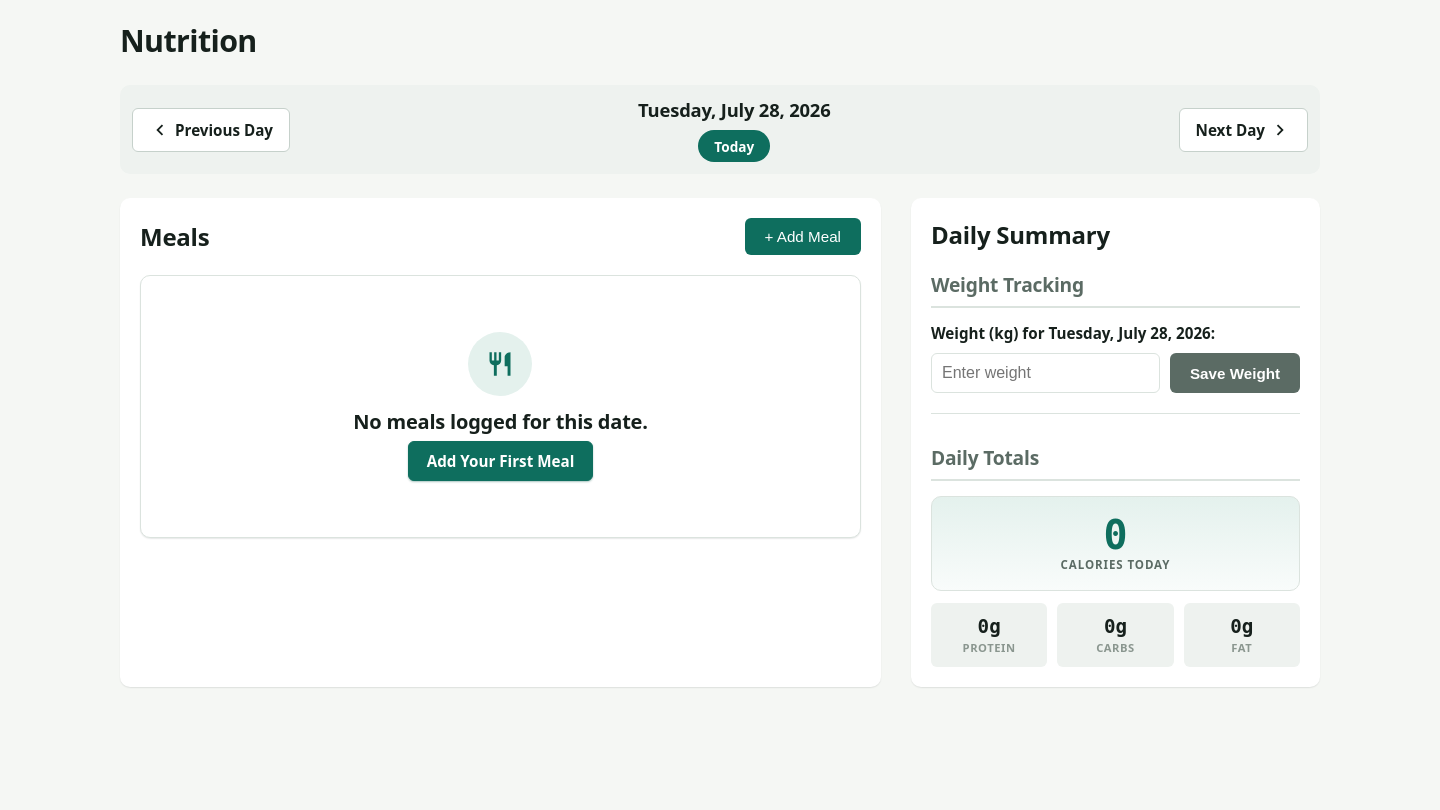
it: NutritionPage › handles error when saving weight fails
# Enter weight
Step 1. Type "82.5" into the number field labelled "Weight (kg) for Tuesday, July 28, 2026:" → x=1046, y=373, box left=931, top=353, right=1160, bottom=393
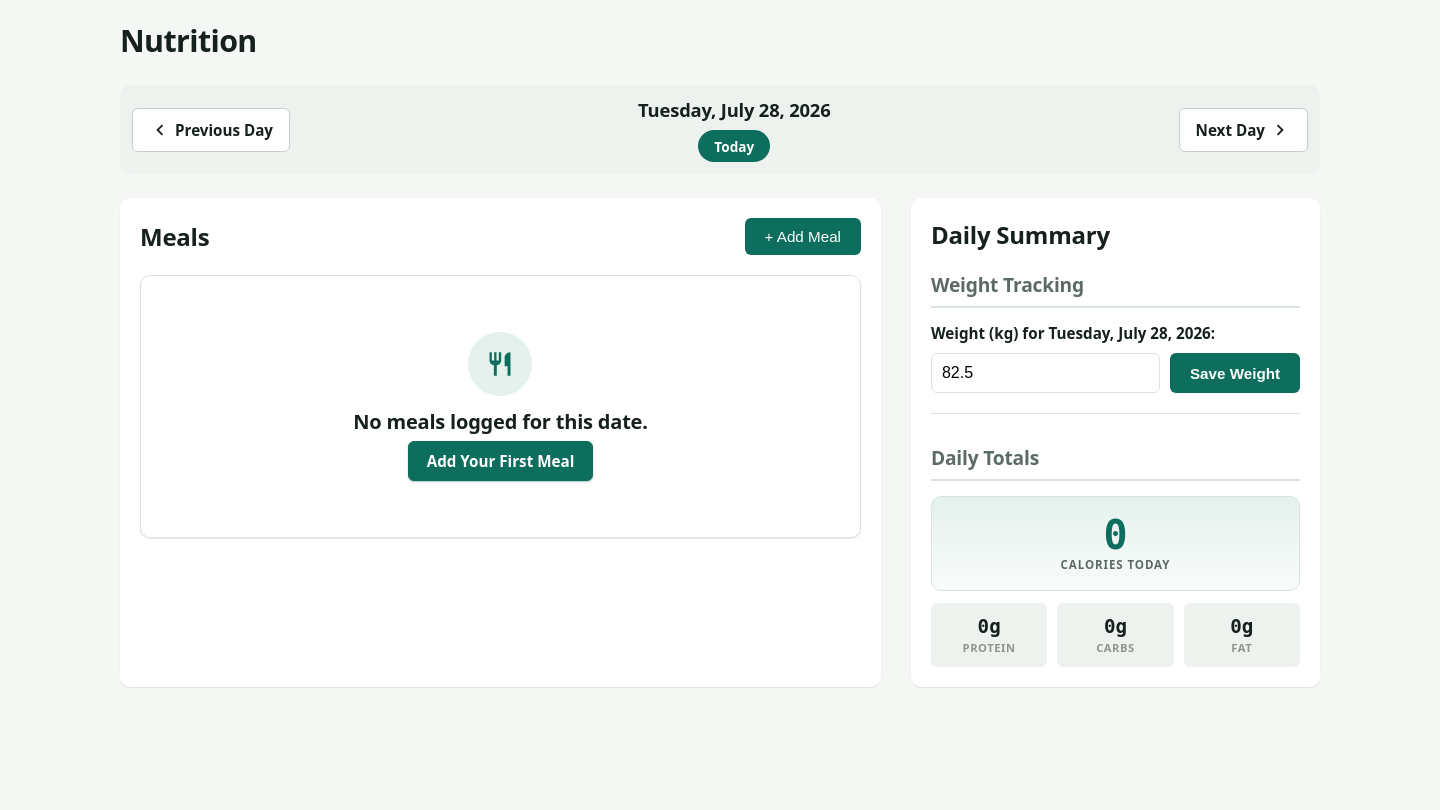
# Save weight
Step 2. Click the button "Save Weight" → x=1235, y=373, box left=1170, top=353, right=1300, bottom=393
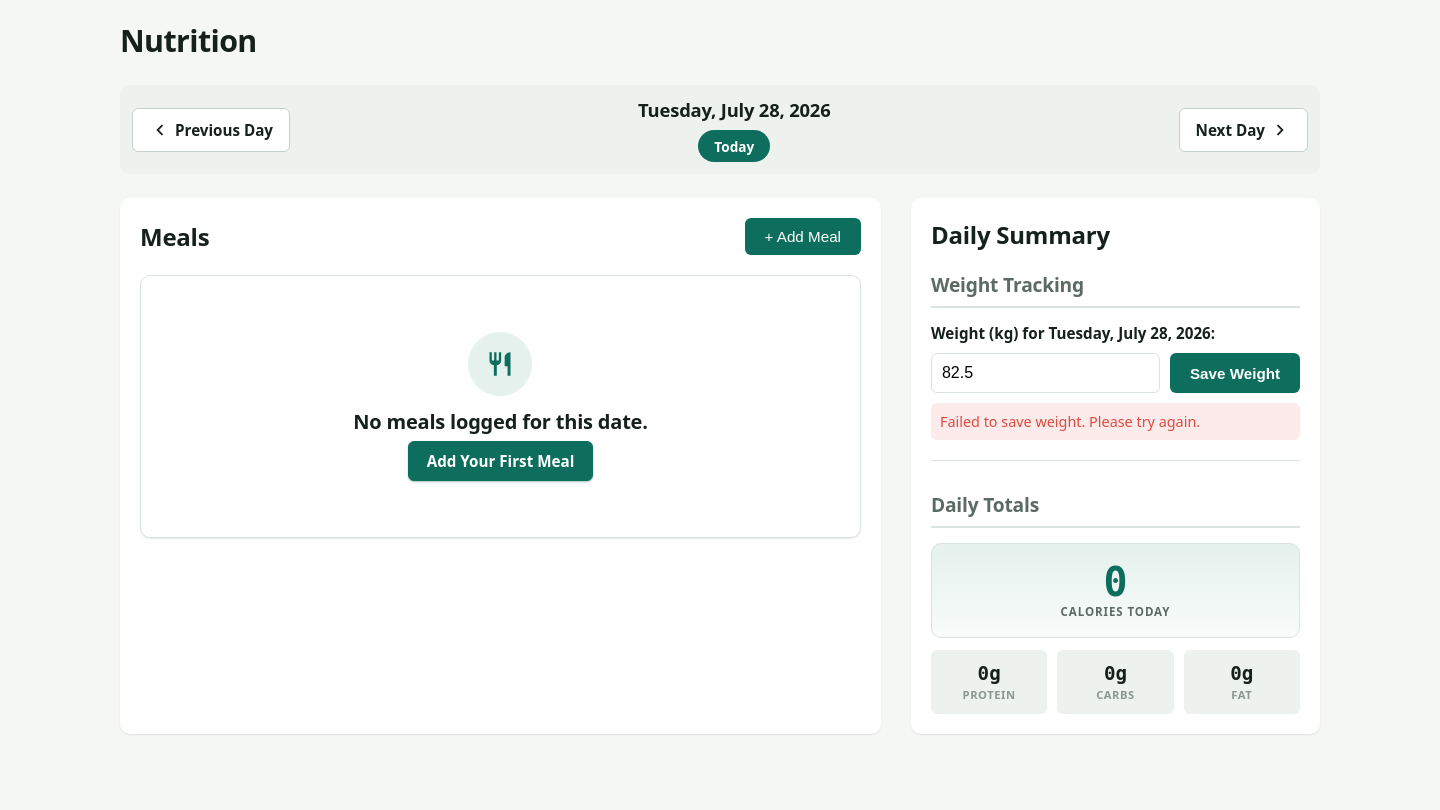
expect the text "Failed to save weight. Please try again." is shown: met, box left=931, top=403, right=1300, bottom=440
